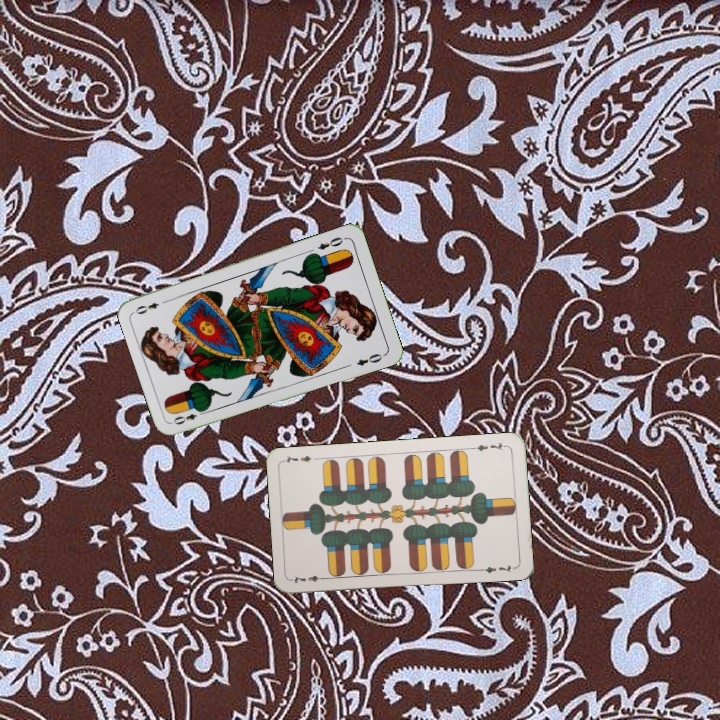E7: (469, 438, 509, 454), (289, 571, 329, 586)
EO: (169, 406, 208, 427), (314, 233, 348, 252)
